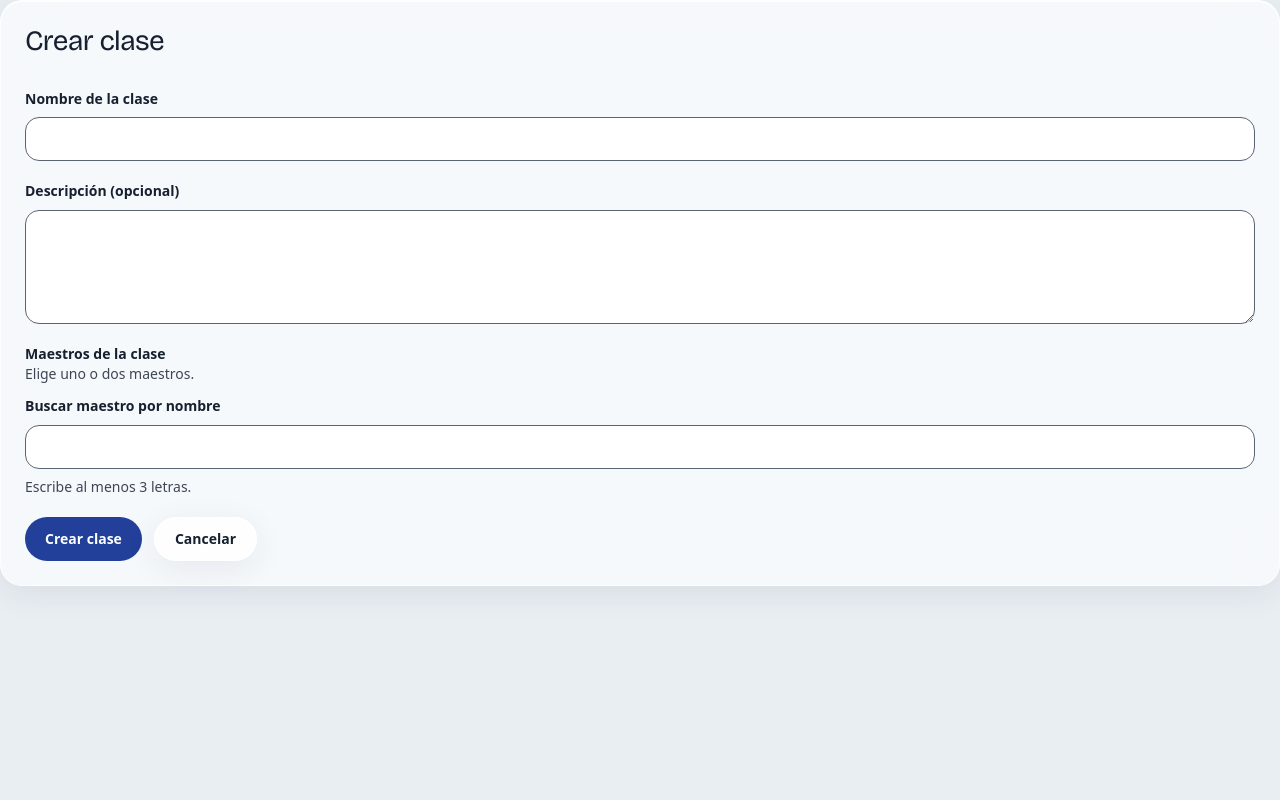
Test: FormularioClase › PR-A21a: la validación en cliente muestra ErrorDeCampo
The image size is (1280, 800).
Click the button "Crear clase". click: (83, 539)
box: [25,517,142,561]
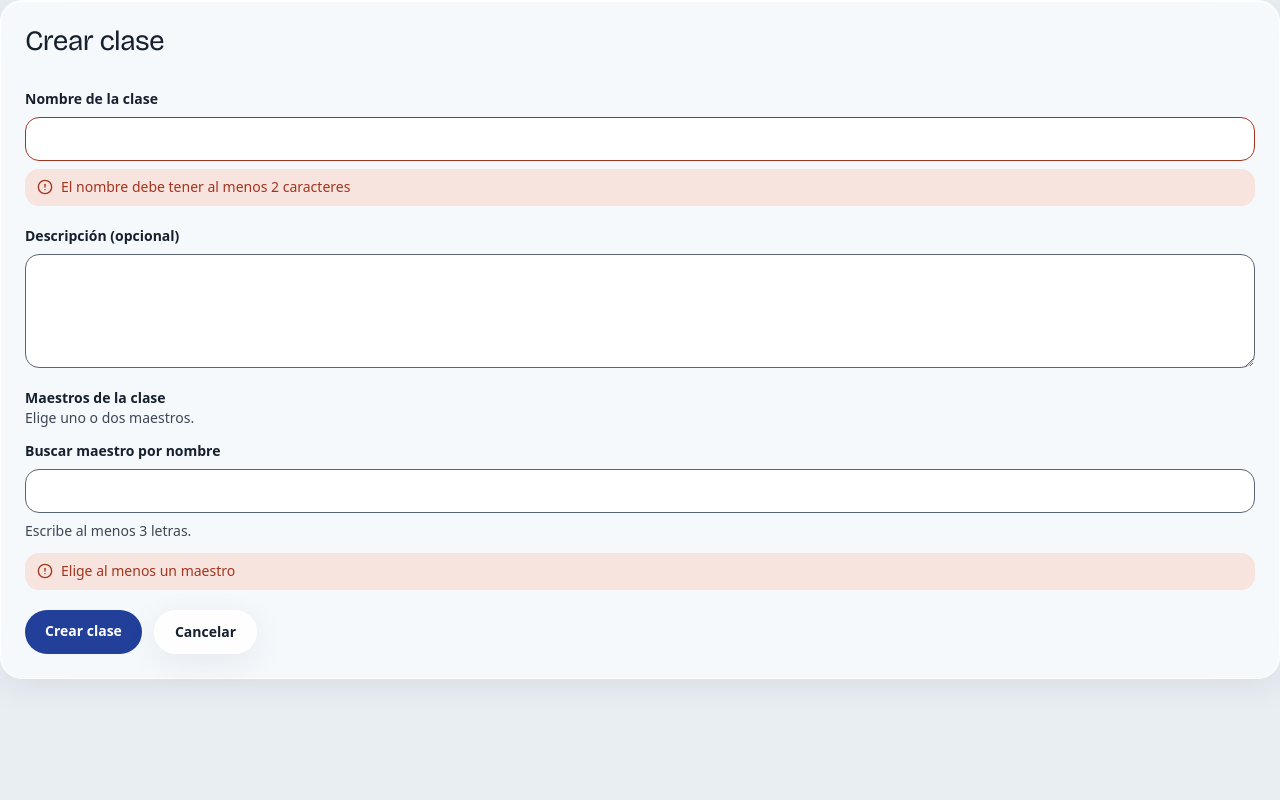
Check: the text "El nombre debe tener al menos 2 caracteres" is shown, box [25,170,1255,206]
